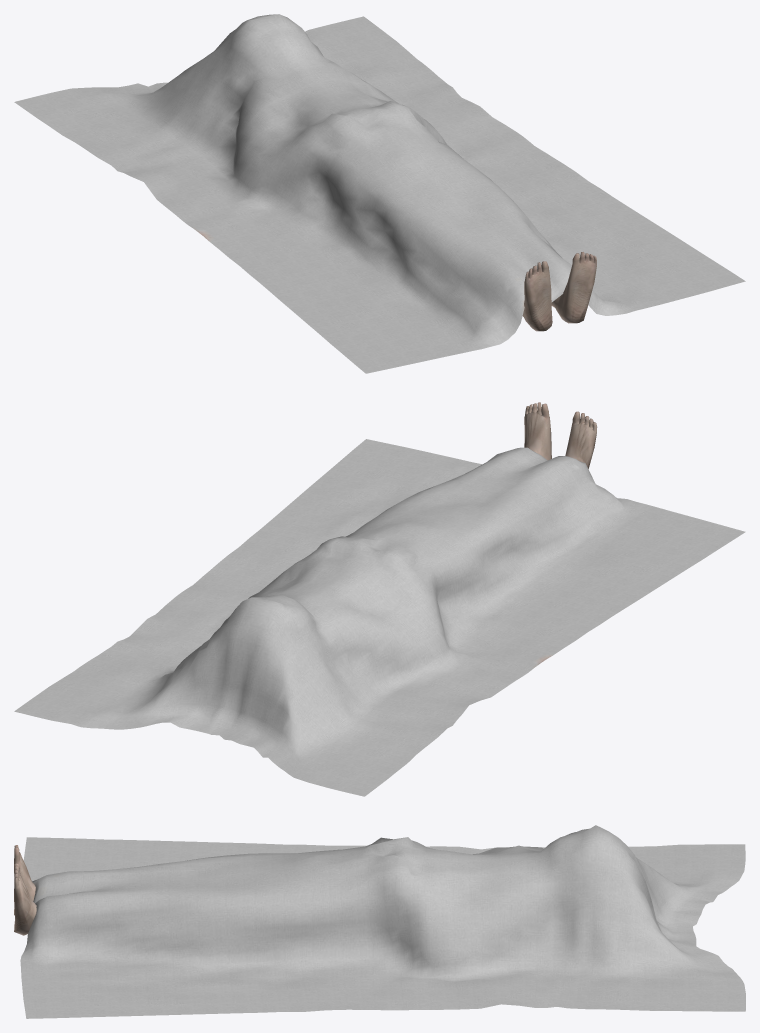
File: Grandmother_deadbody.fbx
The picture shows the model from 3 angles, top to bottom: view 1: azimuth 30°, elevation 25°; view 2: azimuth 150°, elevation 25°; view 3: azimuth 270°, elevation 25°; orthographic projection. The views are drawn at different scales.
Parts seen in each view (by area): view 1: Plane.001, Cylinder.018; view 2: Plane.001, Cylinder.018; view 3: Plane.001, Cylinder.018.
Boxes of the visible parts, x1=… form: Plane.001: x1=14, y1=14, x2=745, y2=373; Cylinder.018: x1=522, y1=252, x2=596, y2=331; Plane.001: x1=14, y1=439, x2=745, y2=796; Cylinder.018: x1=524, y1=402, x2=597, y2=468; Plane.001: x1=20, y1=825, x2=745, y2=1018; Cylinder.018: x1=14, y1=845, x2=36, y2=935.
Size of the model in its own units: 113 by 28.55 by 192.
Materials: 1 (1 with a texture image).
